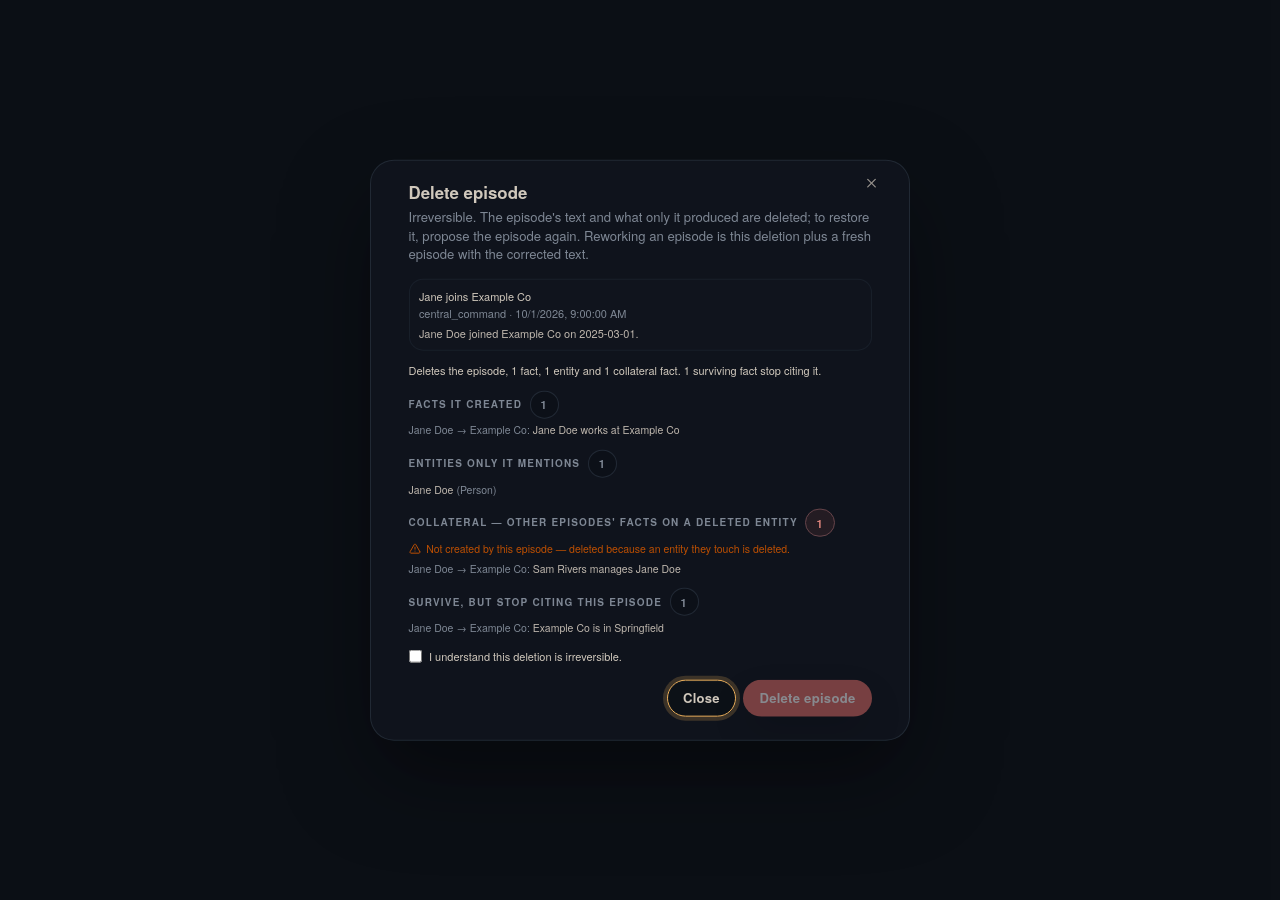
Scenario: EpisodeDeleteDialog › re-reads the preview when the graph changed since it was shown
Expected: the text with test id "delete-counts" is shown, 408,362 -> 872,379
Click the checkbox labelled "I understand this deletion is irreversible" at point(415, 656), box 408,649 -> 422,662
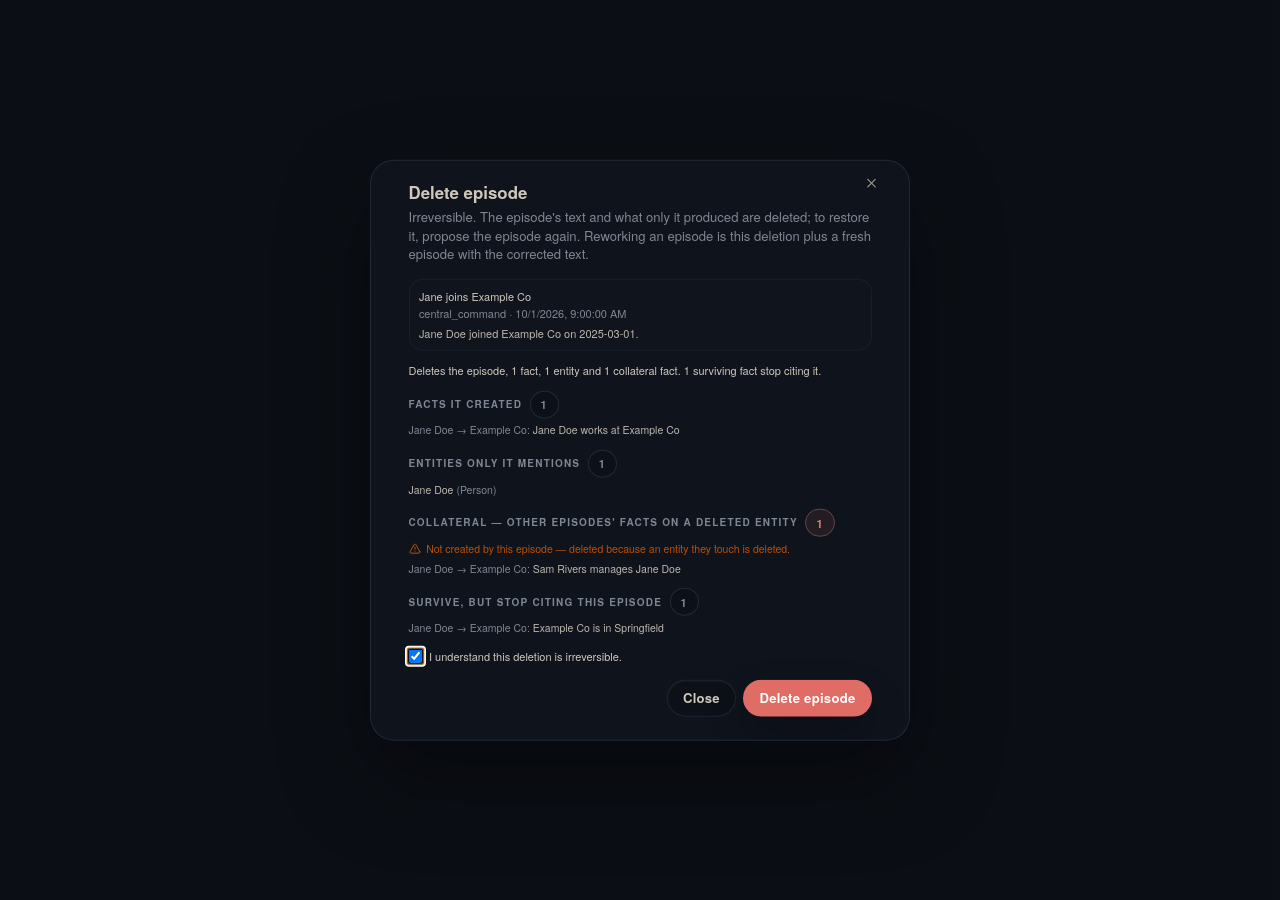
Click the button "Delete episode" at point(807, 698), box 743,679 -> 872,717
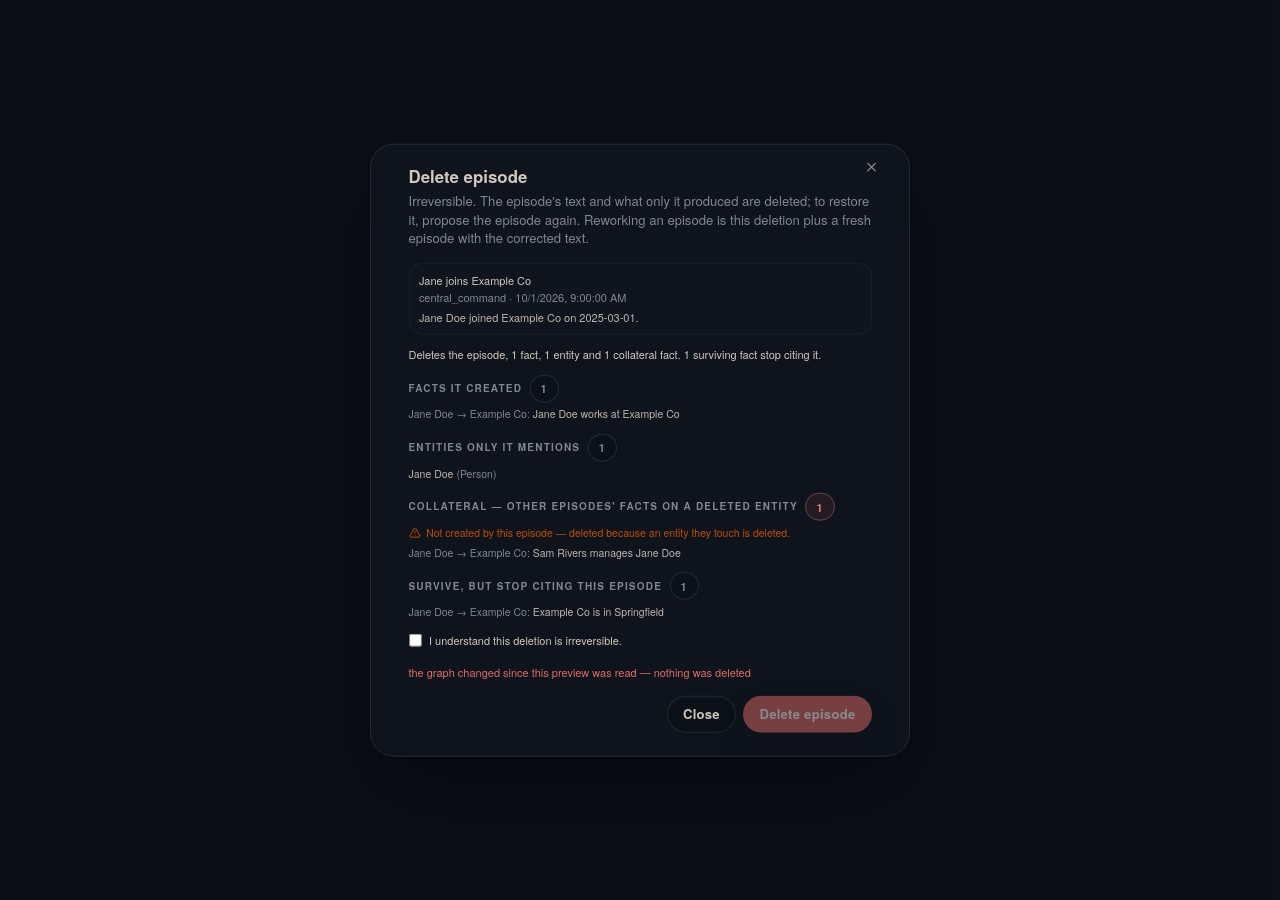
Now the message shows "changed since", box 408,663 -> 751,679
